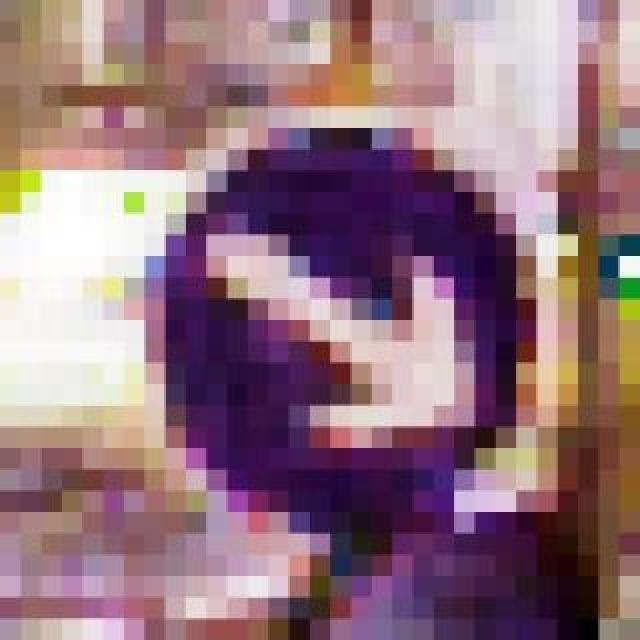keep right: (104, 86, 538, 556)
